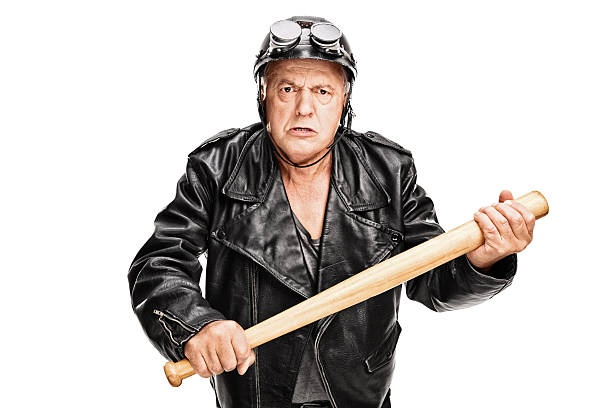bita: (167, 192, 551, 384)
